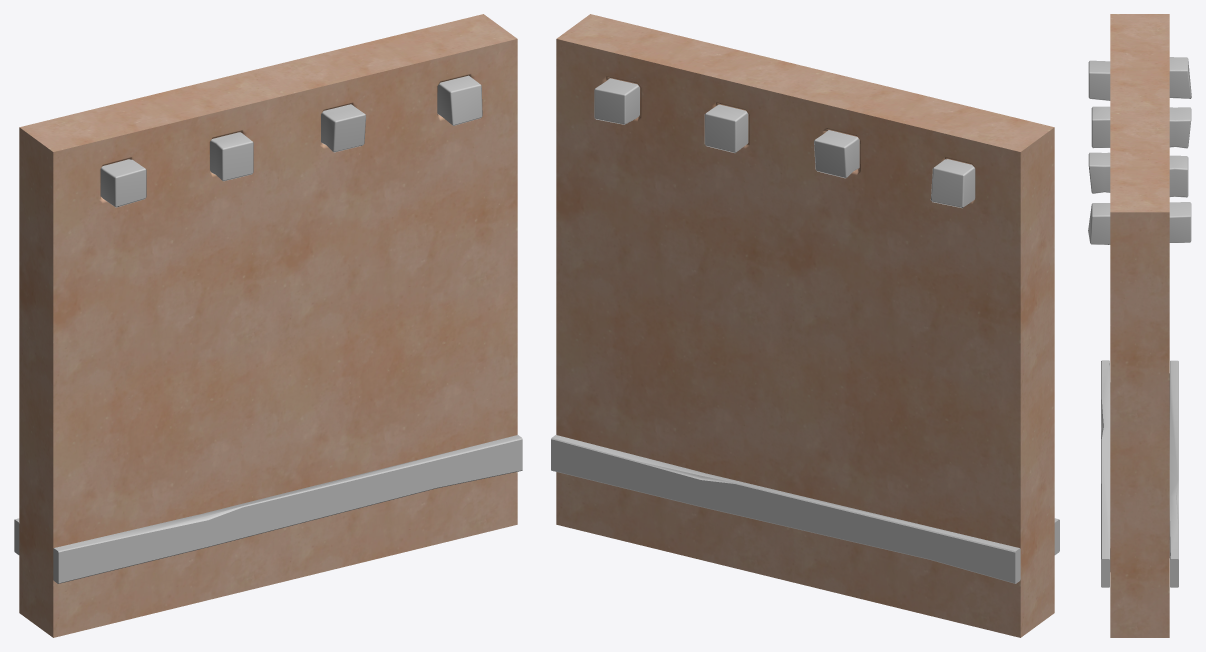
3 renders of one model, left to right at view 1: azimuth 30°, elevation 25°; view 2: azimuth 150°, elevation 25°; view 3: azimuth 270°, elevation 25°, orthographic. The views are drawn at different scales.
Visible parts, largest first — view 1: SM_BB_T4_Wall_Large_LOD0; view 2: SM_BB_T4_Wall_Large_LOD0; view 3: SM_BB_T4_Wall_Large_LOD0.
Part boxes in pixels (box(x1,y1,x2,y2)): SM_BB_T4_Wall_Large_LOD0: box(14, 14, 522, 637); SM_BB_T4_Wall_Large_LOD0: box(551, 14, 1059, 637); SM_BB_T4_Wall_Large_LOD0: box(1088, 14, 1191, 637).
Bounding box in the file's own units: 3 × 3 × 0.6636.
